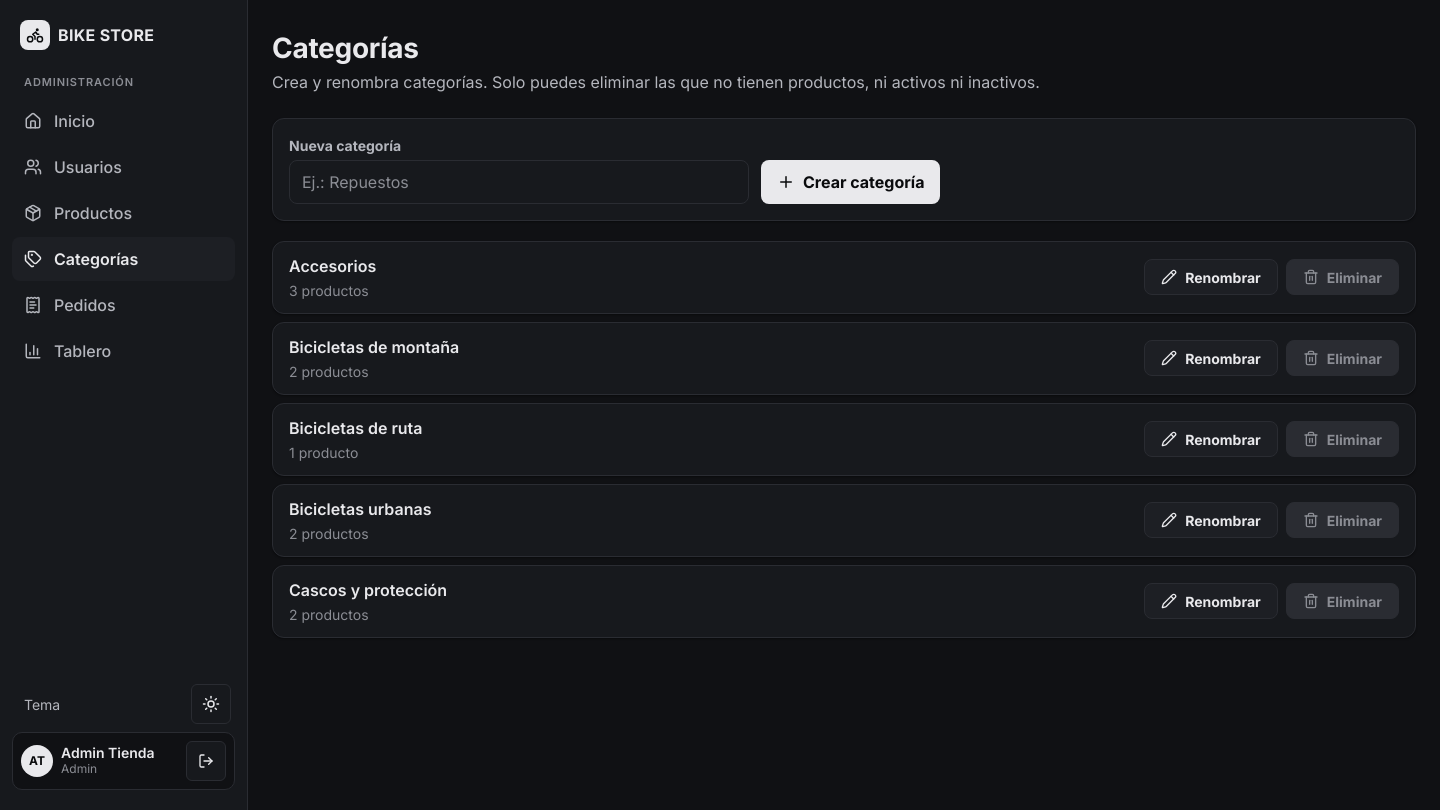
Scenario: Crear › crea la categoría, la ubica en orden alfabético y limpia el campo
Type "  Repuestos  " into the field labelled "Nueva categoría" at (519, 182), box [289, 160, 749, 204]
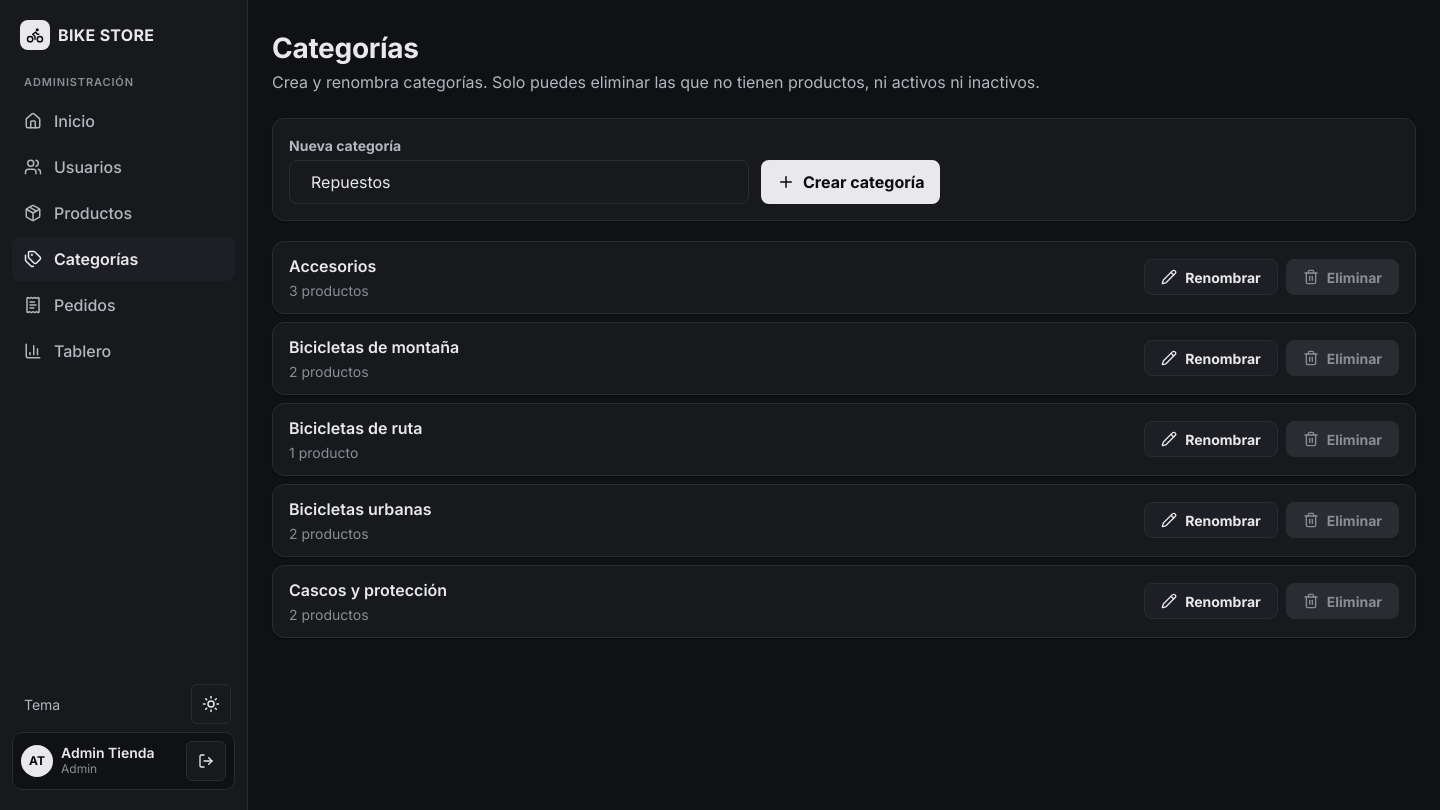
Click the button "Crear categoría" at (851, 182), box [761, 160, 940, 204]
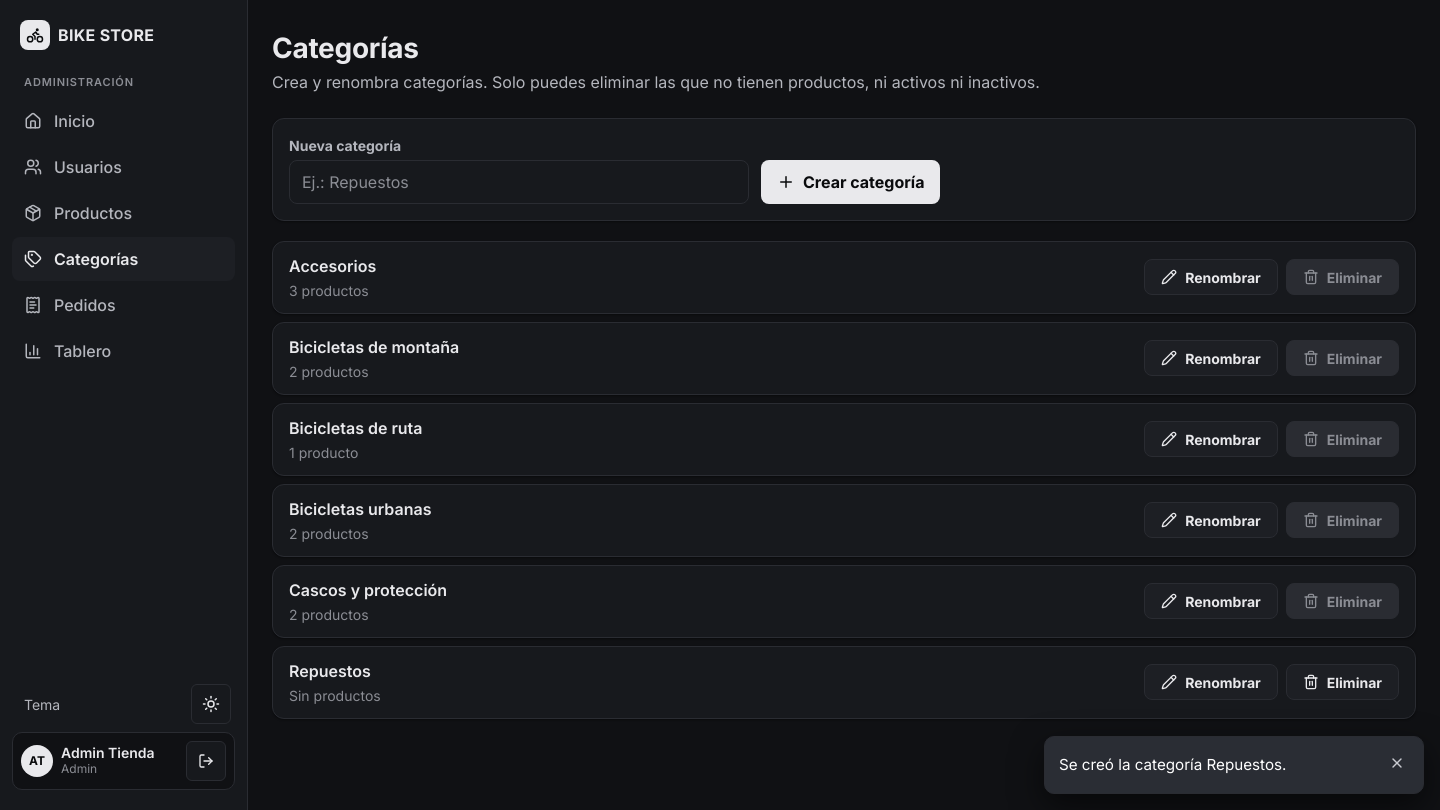
Now the text "Sin productos" is shown, box [289, 685, 381, 706]
Now the field labelled "Nueva categoría" is empty, box [289, 160, 749, 204]
